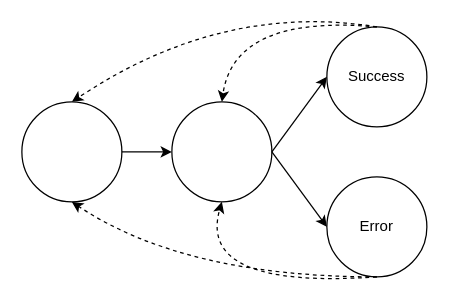
This 449x301 diagram has some shape labels left out. Each missing label, with the centre of its shape:
Idle: (x=71, y=151)
Pending: (x=221, y=151)
